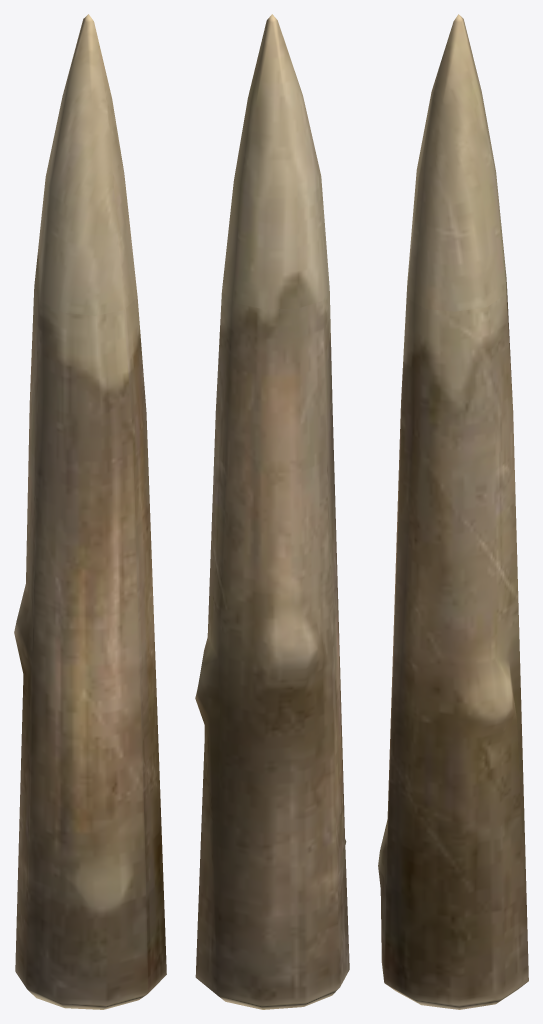
3 renders of one model, left to right at view 1: azimuth 30°, elevation 25°; view 2: azimuth 150°, elevation 25°; view 3: azimuth 270°, elevation 25°, orthographic.
Parts seen in each view (by area): view 1: SM_Garou_Set_SM_Spike_02_02_LOD0; view 2: SM_Garou_Set_SM_Spike_02_02_LOD0; view 3: SM_Garou_Set_SM_Spike_02_02_LOD0.
Boxes of the visible parts, x1,y1,x2,y2 form: SM_Garou_Set_SM_Spike_02_02_LOD0: (14,14,166,1009); SM_Garou_Set_SM_Spike_02_02_LOD0: (195,14,349,1009); SM_Garou_Set_SM_Spike_02_02_LOD0: (378,14,528,1009).
Bounding box in the file's own units: 0.1815 × 1.27 × 0.1789.
1 material, 1 textured.
